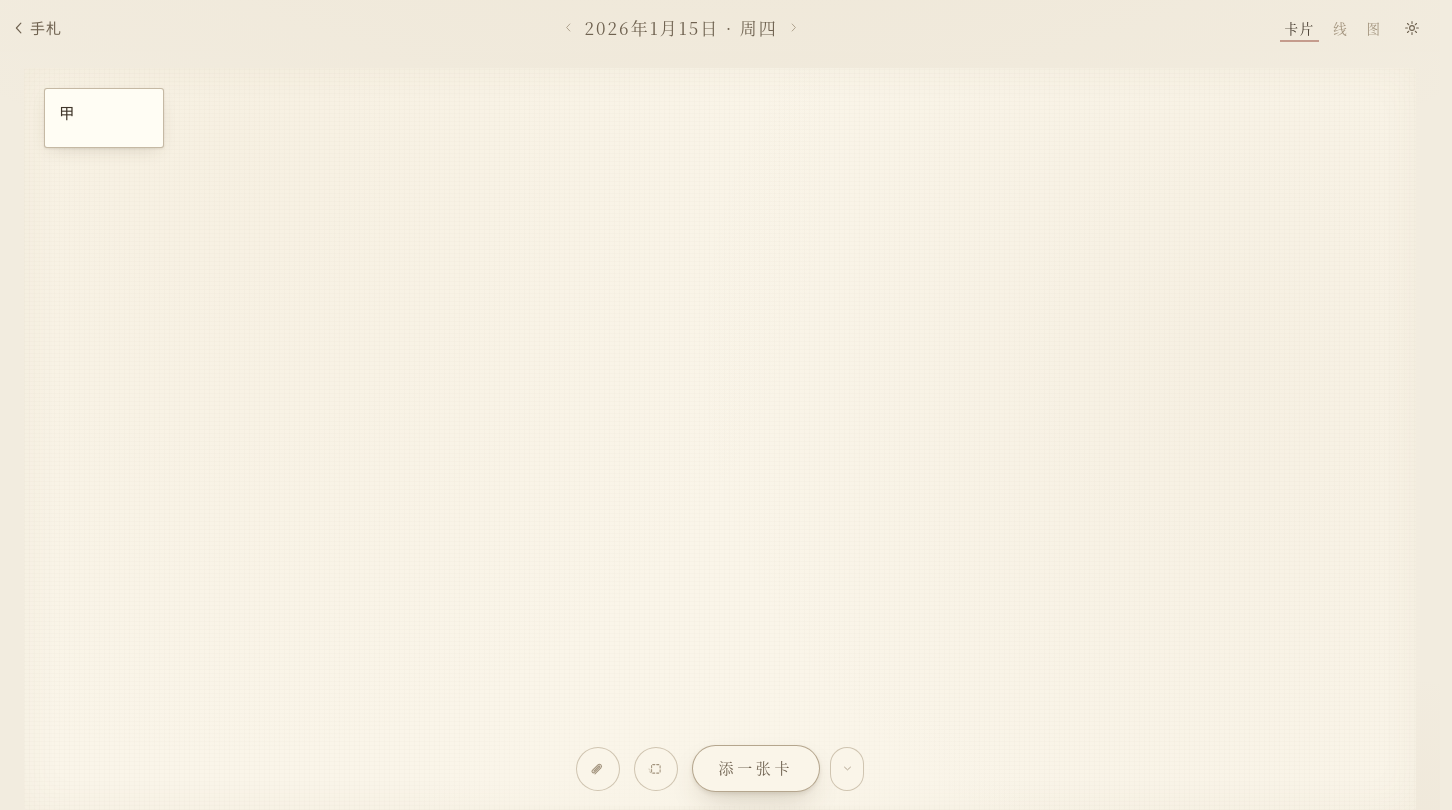
Test: 线模式（D5 交互） › 目光是瞬态：切去线模式不写任何库（journals/edges/keys 不变），线模式只读无拖把手
This screenshot has width=1452, height=810.
Expected: the text "甲" is shown, [59, 102, 74, 124]
Click the button "线" at (1341, 28), box [1325, 14, 1357, 42]
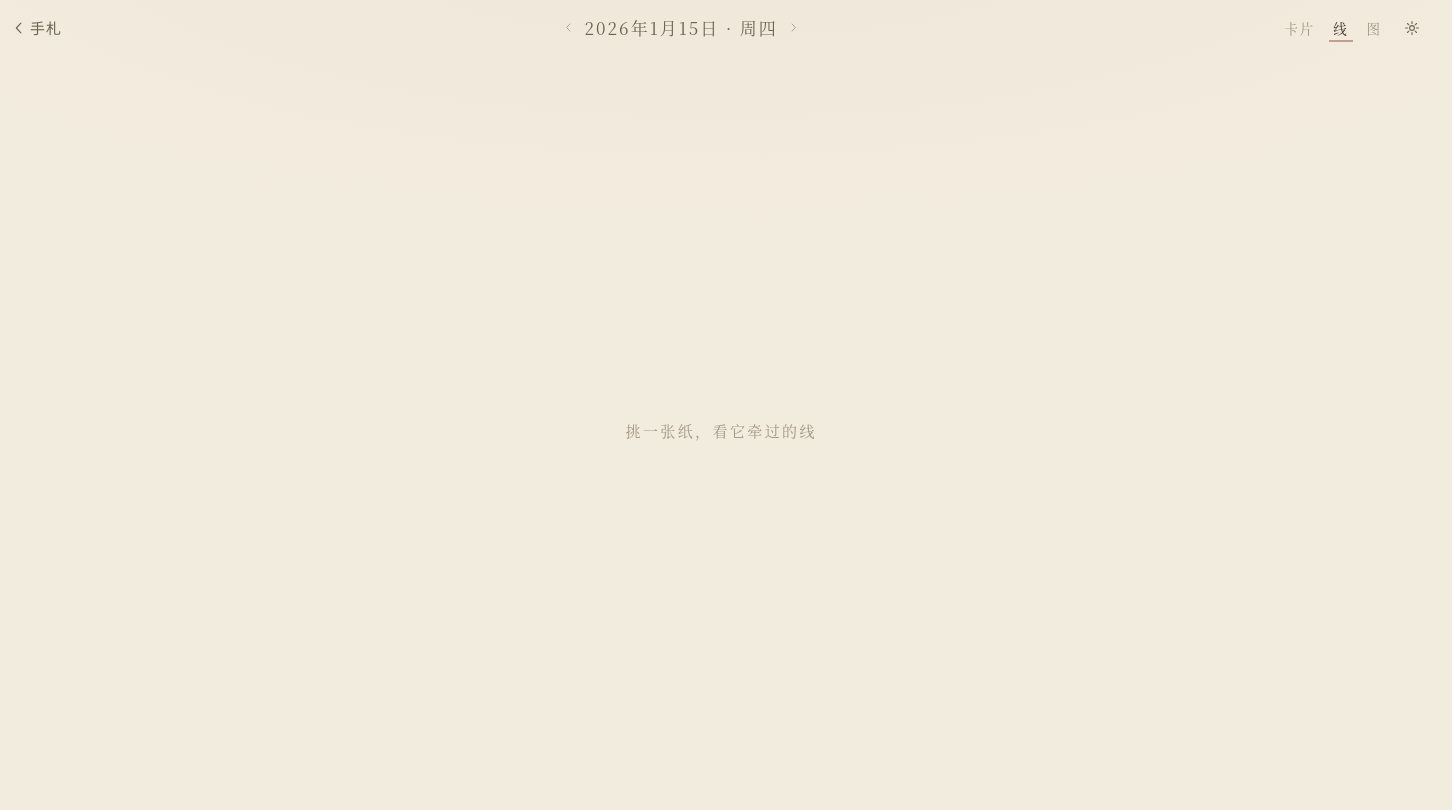
Expected: the text "挑一张纸，看它牵过的线" is shown, [626, 419, 817, 443]
